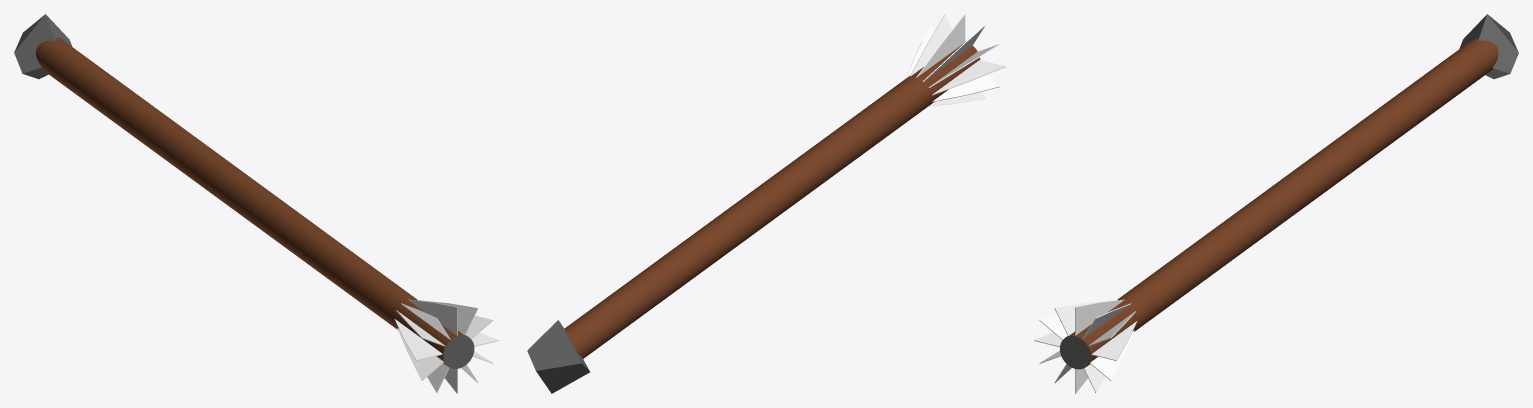
File: Arrow.fbx
The picture shows the model from 3 angles, left to right: view 1: azimuth 30°, elevation 25°; view 2: azimuth 150°, elevation 25°; view 3: azimuth 330°, elevation 25°; orthographic projection.
Parts seen in each view (by area): view 1: Куб.001; view 2: Куб.001; view 3: Куб.001.
Part boxes in pixels (<box>): Куб.001: <box>14,14,498,393</box>; Куб.001: <box>527,14,1005,393</box>; Куб.001: <box>1034,14,1518,393</box>.
Bounding box in the file's own units: 3.81 × 3.81 × 34.74.
